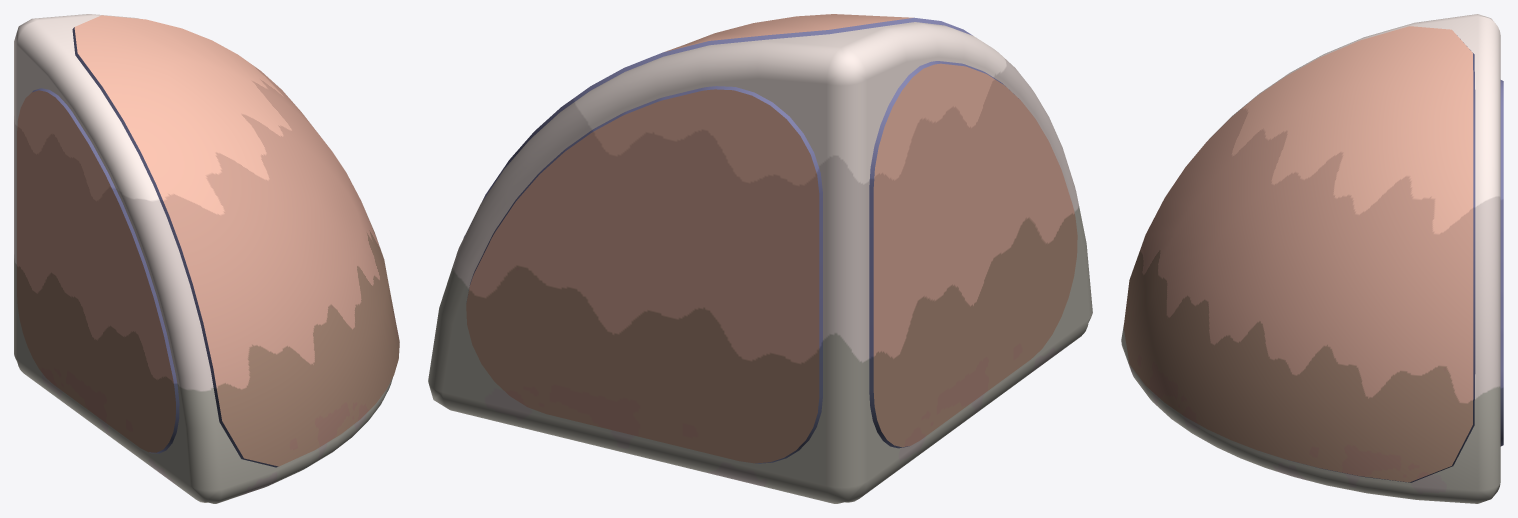
The model's file is R4B_RoundCorner.glb.
3 views of the same model, side by side, from view 1: azimuth 30°, elevation 25°; view 2: azimuth 150°, elevation 25°; view 3: azimuth 270°, elevation 25° (orthographic). The views are drawn at different scales.
Parts seen in each view (by area): view 1: R4B_RoundCorner; view 2: R4B_RoundCorner; view 3: R4B_RoundCorner.
Part boxes in pixels (left/top/right/bottom): R4B_RoundCorner: left=14, top=14, right=399, bottom=503; R4B_RoundCorner: left=428, top=14, right=1092, bottom=503; R4B_RoundCorner: left=1121, top=14, right=1503, bottom=503.
Size of the model in its own units: 0.5087 by 0.5087 by 0.5087.
3 materials, 3 textured.
